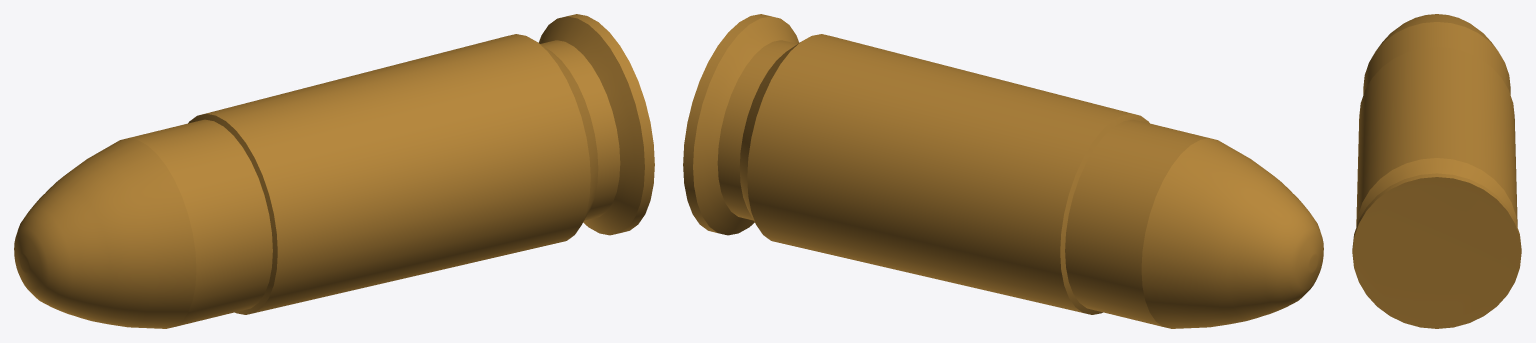
File: Bullet.fbx
3 renders of one model, left to right at view 1: azimuth 30°, elevation 25°; view 2: azimuth 150°, elevation 25°; view 3: azimuth 270°, elevation 25°, orthographic. The views are drawn at different scales.
Visible parts, largest first — view 1: Cylinder; view 2: Cylinder; view 3: Cylinder.
Boxes of the visible parts, x1,y1,x2,y2 form: Cylinder: [14, 14, 654, 328]; Cylinder: [683, 14, 1323, 328]; Cylinder: [1352, 14, 1521, 328].
Bounding box in the file's own units: 43.08 × 14.55 × 14.68.
Materials: 1 (1 with a texture image).
